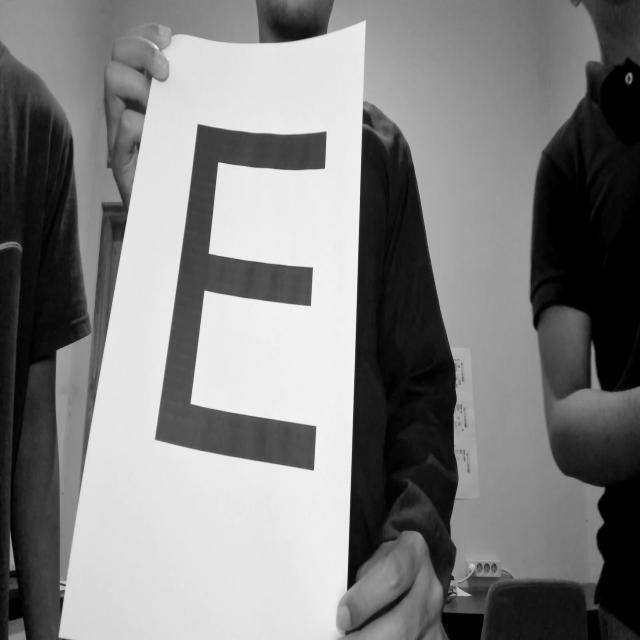e: (156, 92, 330, 490)
